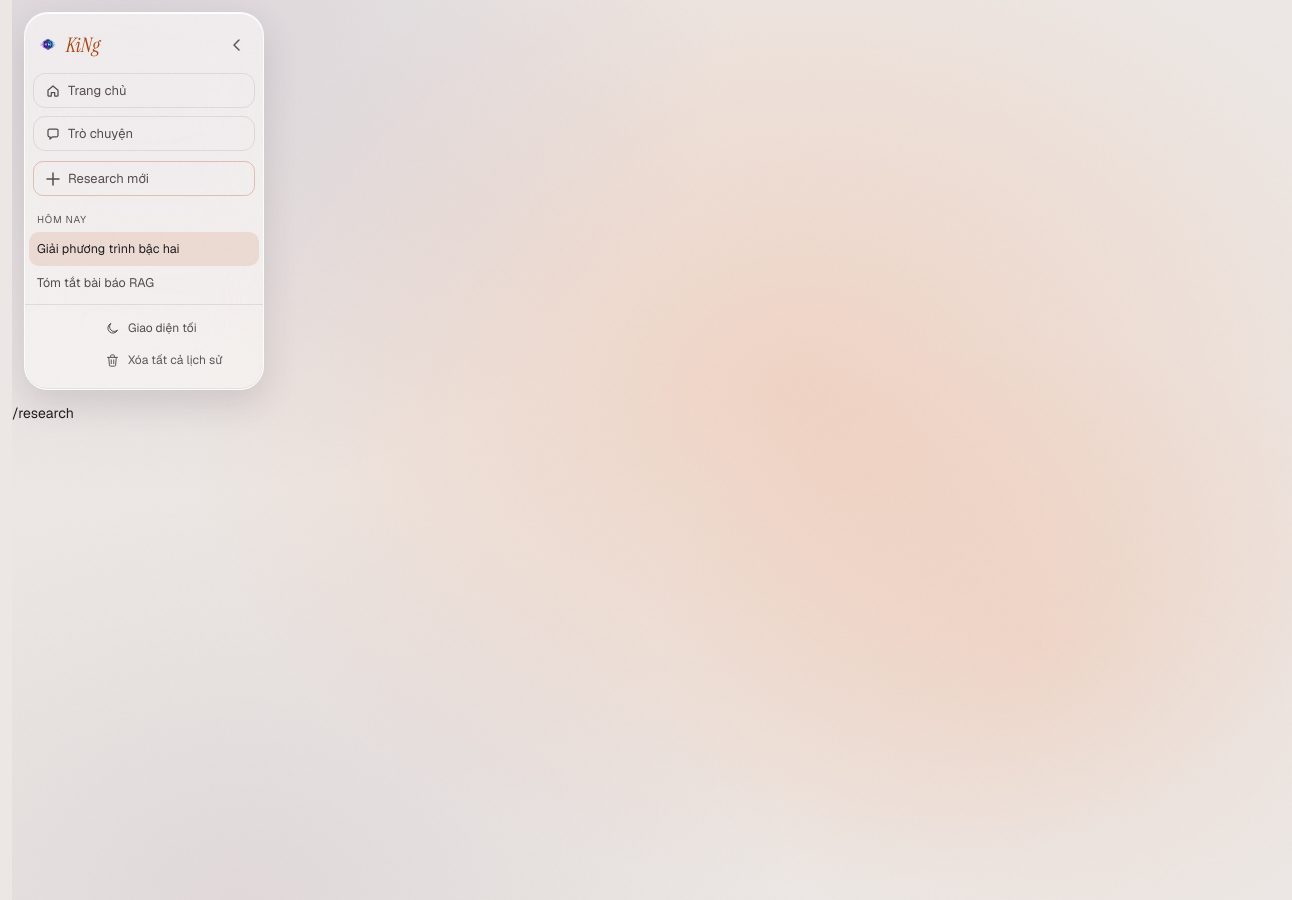
Test: leads back to the chat page from a tool page
The width and height of the screenshot is (1292, 900).
Click the button "Trò chuyện": (144, 134) [33,116,255,151]
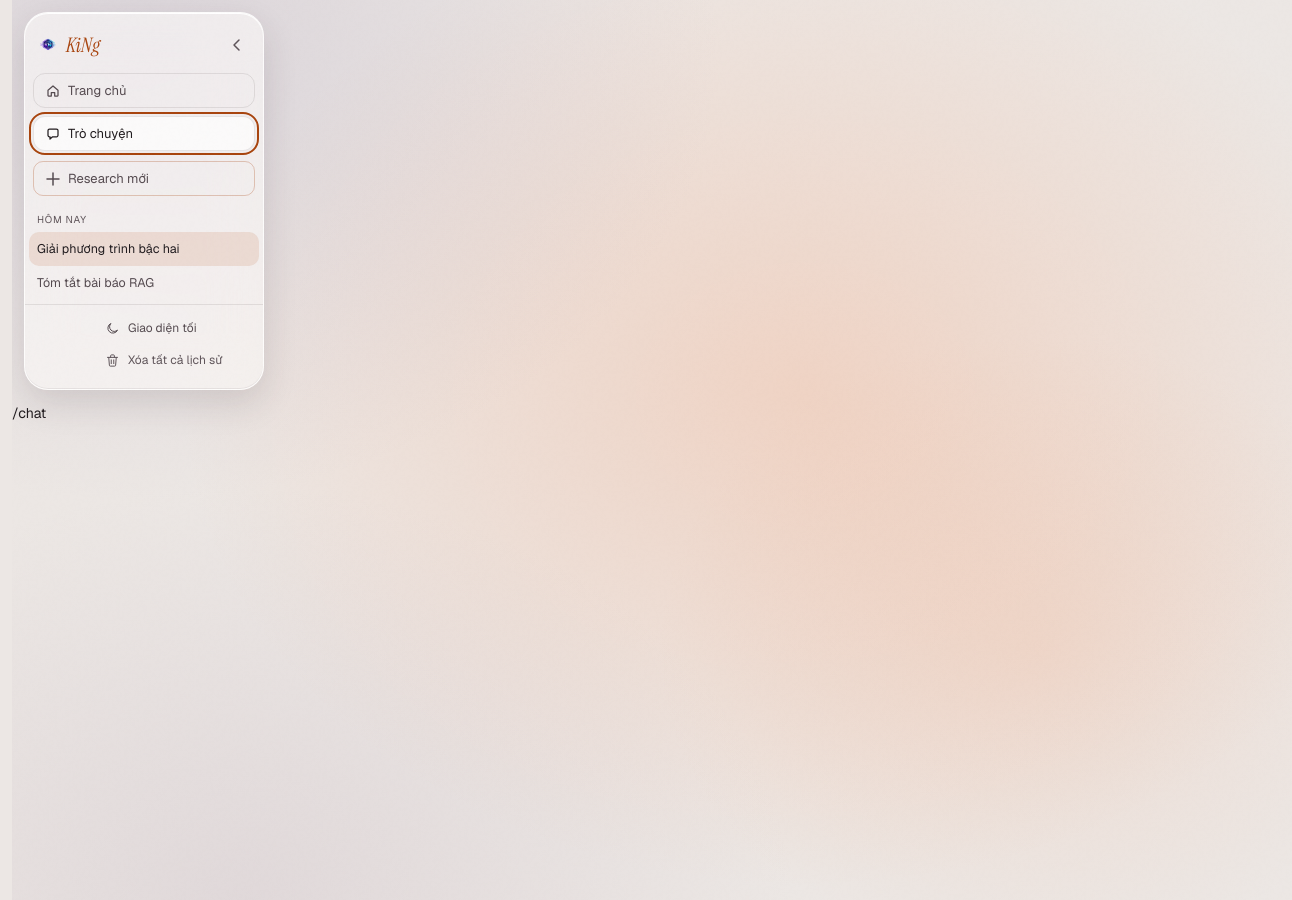
Check: the text with test id "where" reads "/chat", box [12,404,46,422]
